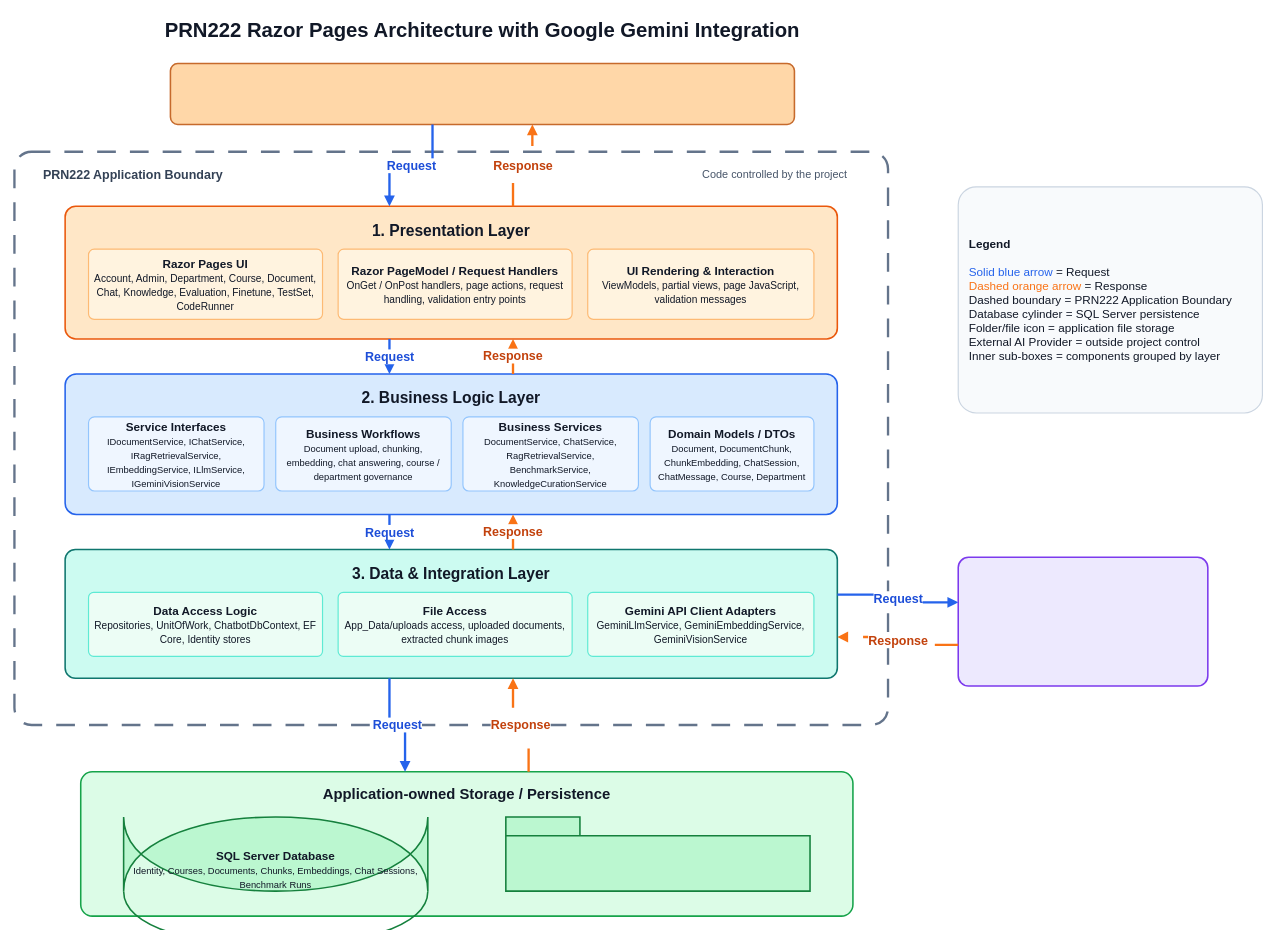
Image size: 1277x930. Some labels were removed from this diagram. The centre of each missing label's shape, as x and y in pixels:
External AI Provider Google Gemini API generateContent embedContent: (1082,621)
File Storage App_Data/uploads Uploaded documents Extracted chunk images: (657,854)
Users / Actors Admin | Head Lecturer | Lecturer | Student: (482,93)
